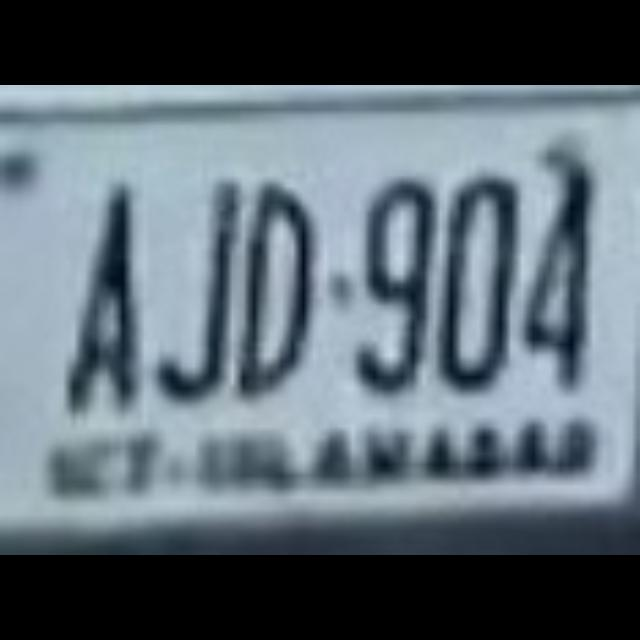0: (438, 156, 520, 408)
4: (520, 156, 602, 408)
9: (358, 156, 440, 408)
A: (33, 156, 115, 408)
D: (239, 155, 321, 407)
J: (151, 154, 233, 406)
